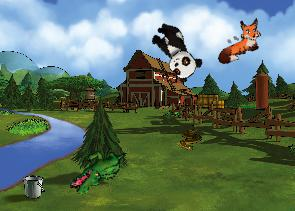crocodile: (67, 136, 128, 205)
fox: (208, 14, 269, 67)
panda: (144, 18, 206, 84)
